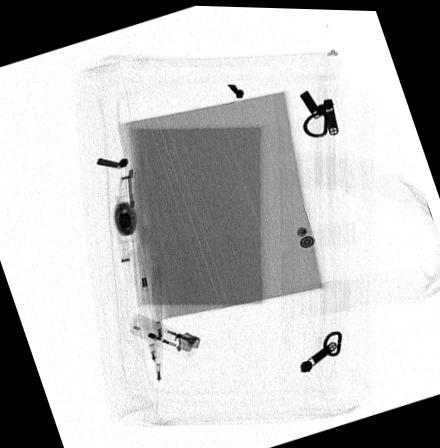Lighter: (127, 312, 200, 352)
